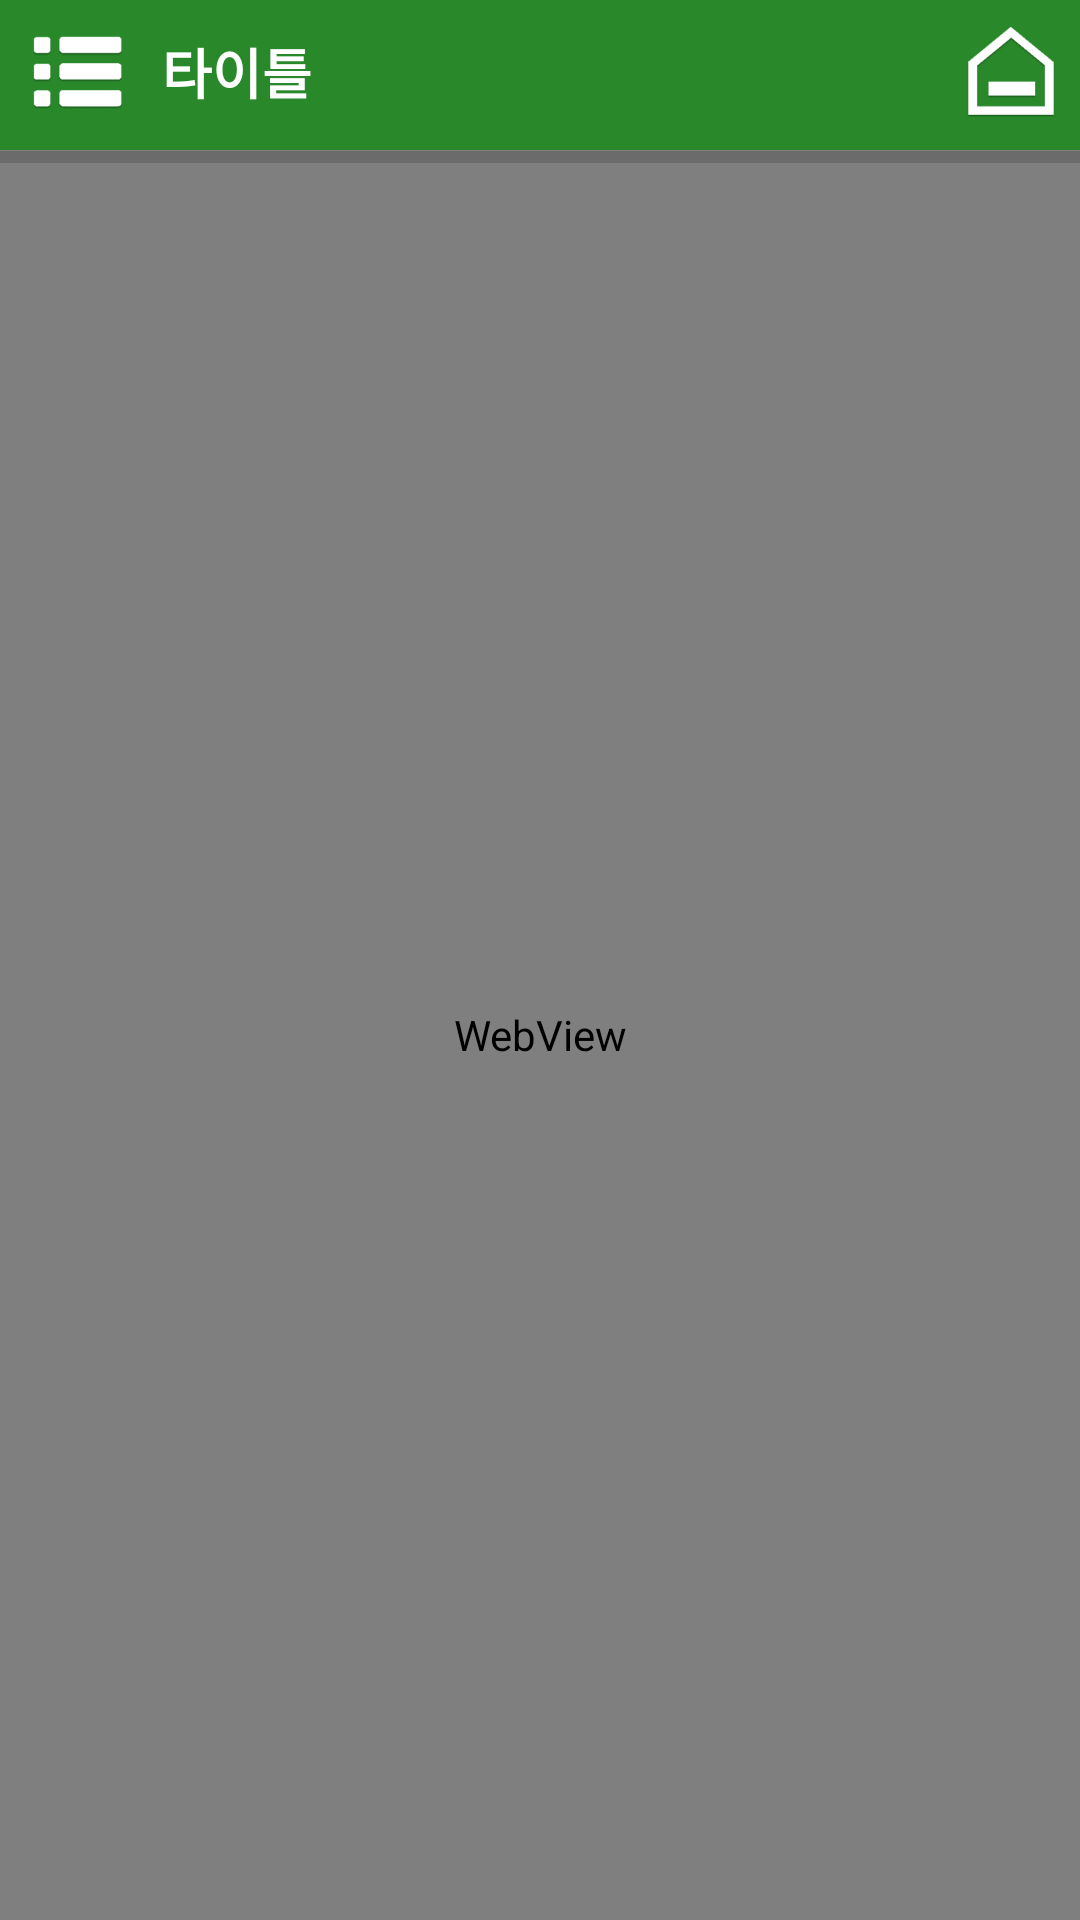

Where to tap for icons on this 1080px×1920px app screen, as (x,y):
top home: (1011,71)
top list: (77,72)
